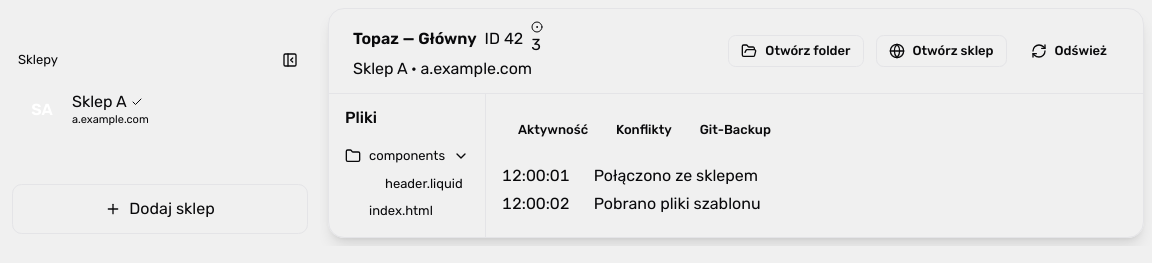
Test case: HubScreen › renders a provided conflicts slot instead of the placeholder
Click the tab "Konflikty": (644,130) [604,114,684,146]
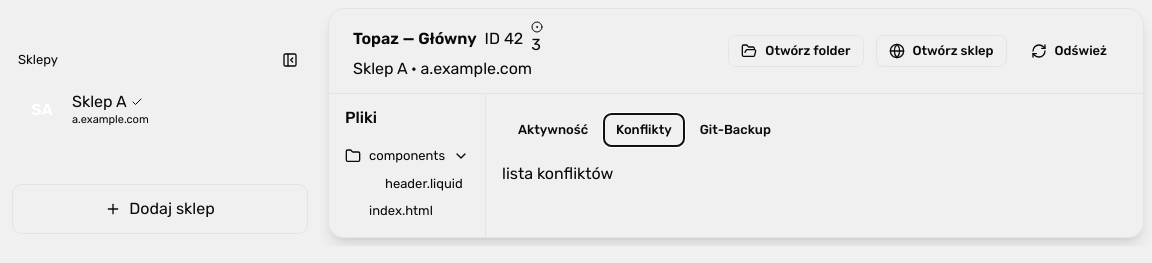
Result: the text "lista konfliktów" is shown at [502,164,613,182]
